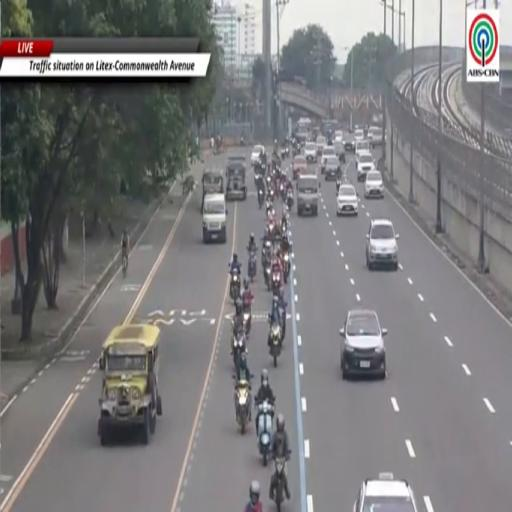car: (340, 309, 387, 379), (354, 473, 417, 511), (366, 219, 399, 270), (203, 193, 227, 243), (337, 184, 358, 215), (356, 153, 375, 182), (364, 171, 383, 198), (323, 155, 341, 181), (292, 155, 308, 180), (321, 147, 335, 173), (368, 126, 383, 148), (304, 142, 317, 163), (251, 146, 265, 165), (334, 141, 345, 163), (355, 140, 370, 155), (316, 136, 327, 155), (344, 135, 354, 152), (354, 128, 365, 141), (334, 131, 342, 140)
jeepney: (98, 325, 161, 445), (201, 170, 224, 213), (226, 156, 247, 200)
motorcycle: (257, 400, 274, 467), (236, 381, 251, 434), (273, 458, 285, 511), (232, 332, 247, 369), (269, 324, 282, 366), (230, 270, 240, 301), (248, 251, 257, 282), (262, 240, 271, 269), (243, 307, 251, 337), (264, 260, 271, 291), (283, 253, 290, 283), (272, 272, 281, 294), (280, 308, 285, 342), (280, 217, 288, 236), (286, 189, 293, 210), (258, 188, 264, 209), (268, 187, 275, 205), (279, 181, 285, 201), (268, 221, 275, 237), (266, 174, 272, 192), (266, 198, 272, 214), (336, 180, 341, 194), (239, 137, 245, 146), (281, 149, 286, 159), (285, 147, 289, 156)
